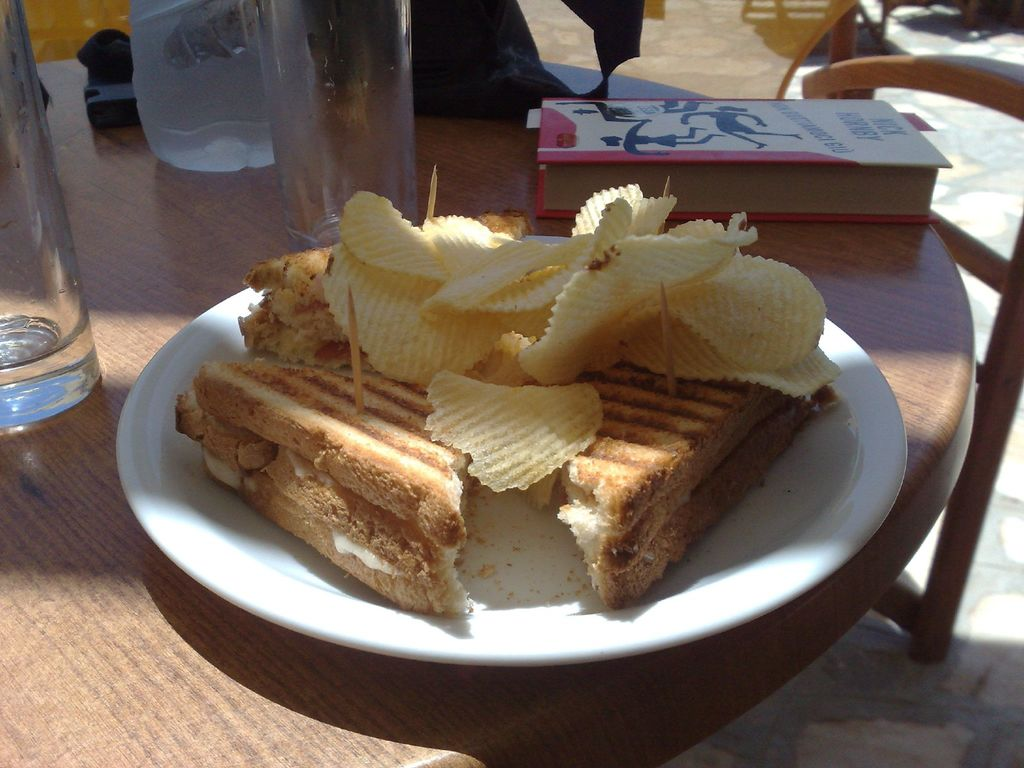sandwich: (521, 352, 840, 611), (175, 358, 483, 616), (233, 223, 527, 367)
